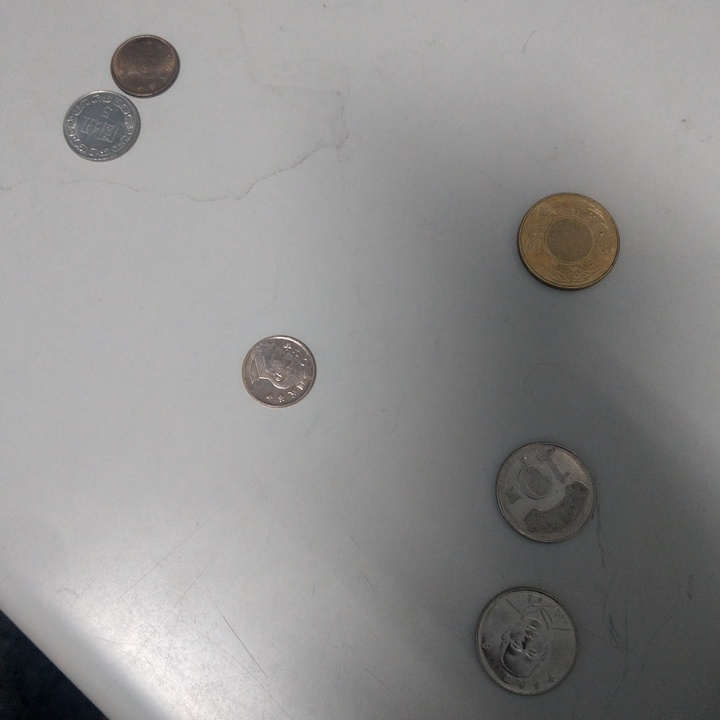1 dollar: (243, 333, 319, 412), (110, 33, 181, 100)
10 dollar: (471, 587, 581, 697), (494, 442, 597, 550)
5 dollar: (64, 91, 142, 163)
50 dollar: (515, 191, 622, 294)
